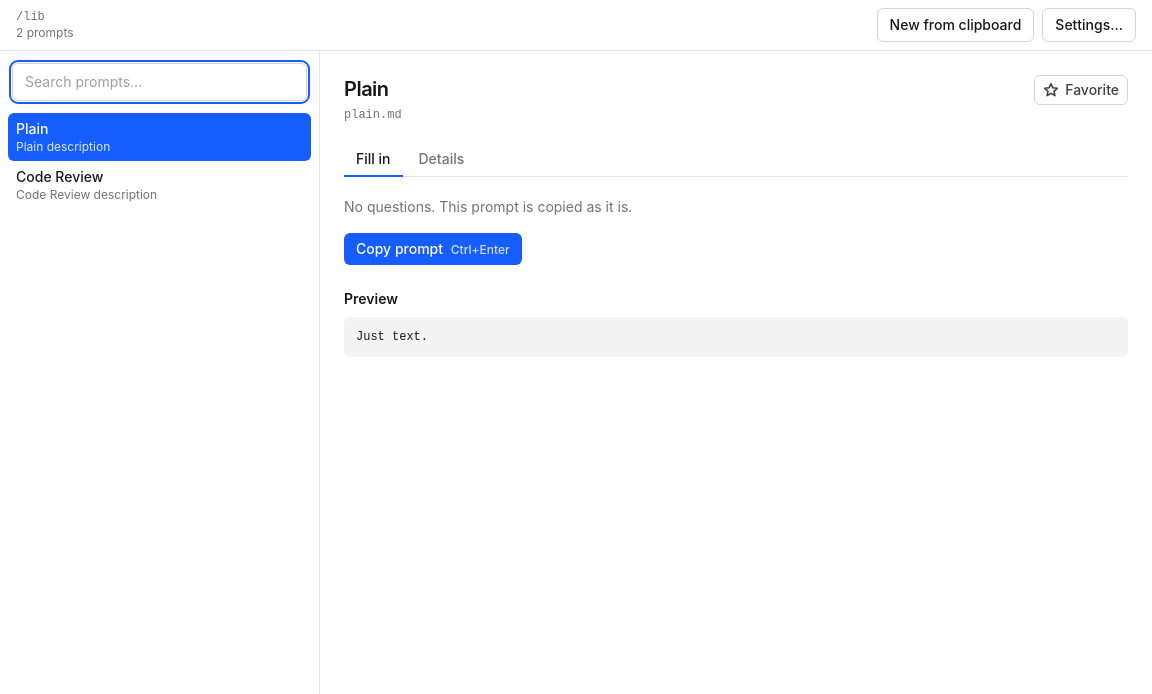
it: main window › searches, showing the matches, or that there are none
Expected: the heading "Plain" is shown, [344,75,389,103]
Type "code" into the dropdown labelled "Search prompts" at (160, 82), box [12,63,307,101]
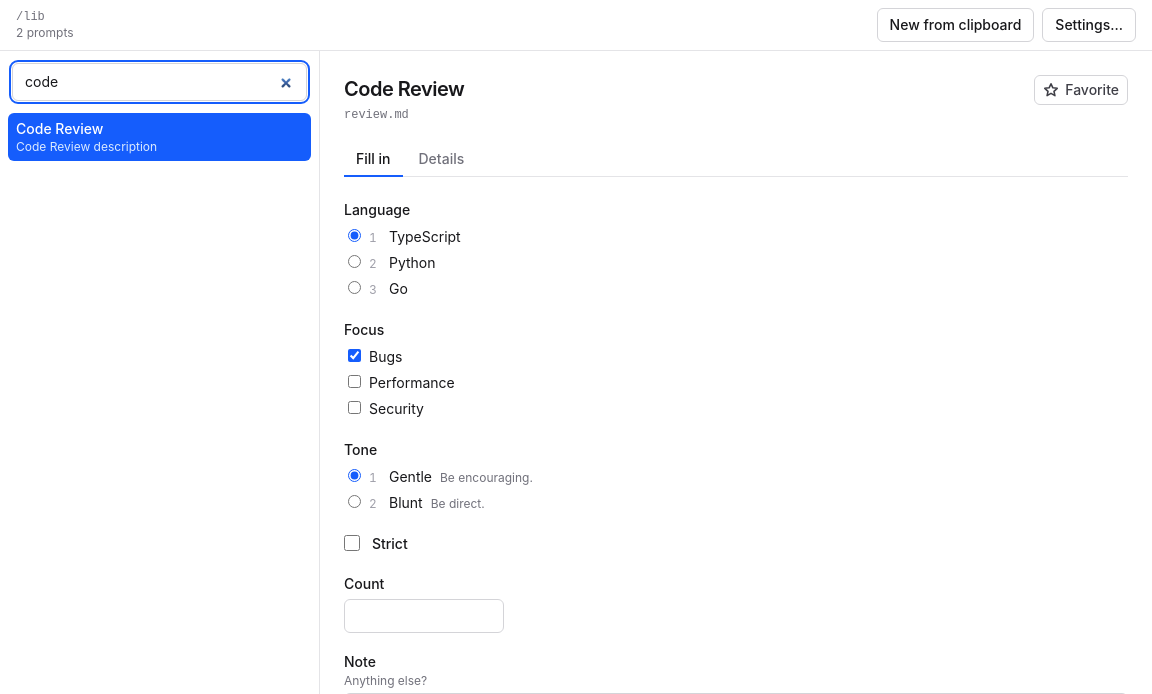
Now the heading "Code Review" is shown, box [344,75,464,103]
Now the number of options is 1, box [8,113,311,161]
Type "zz" into the dropdown named "Search prompts" at (160, 82), box [12,63,307,101]
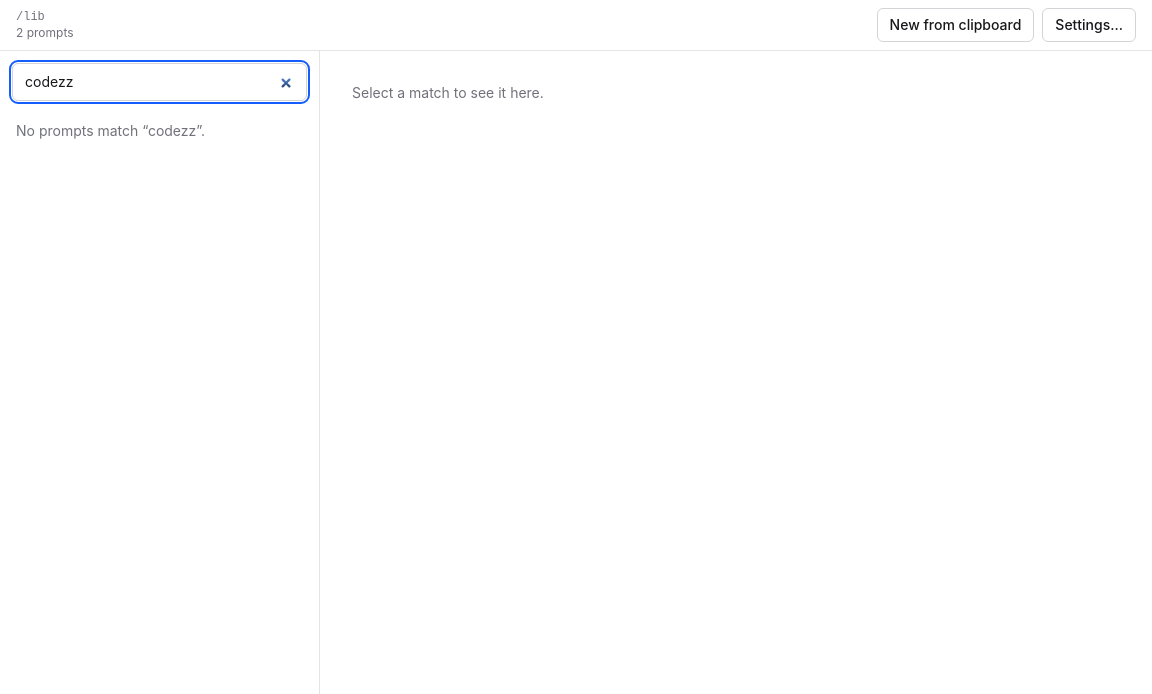
Now the text "No prompts match" is shown, box [16,122,148,139]
Now the text "Select a match to see it here." is shown, box [352,84,544,101]
Press Escape
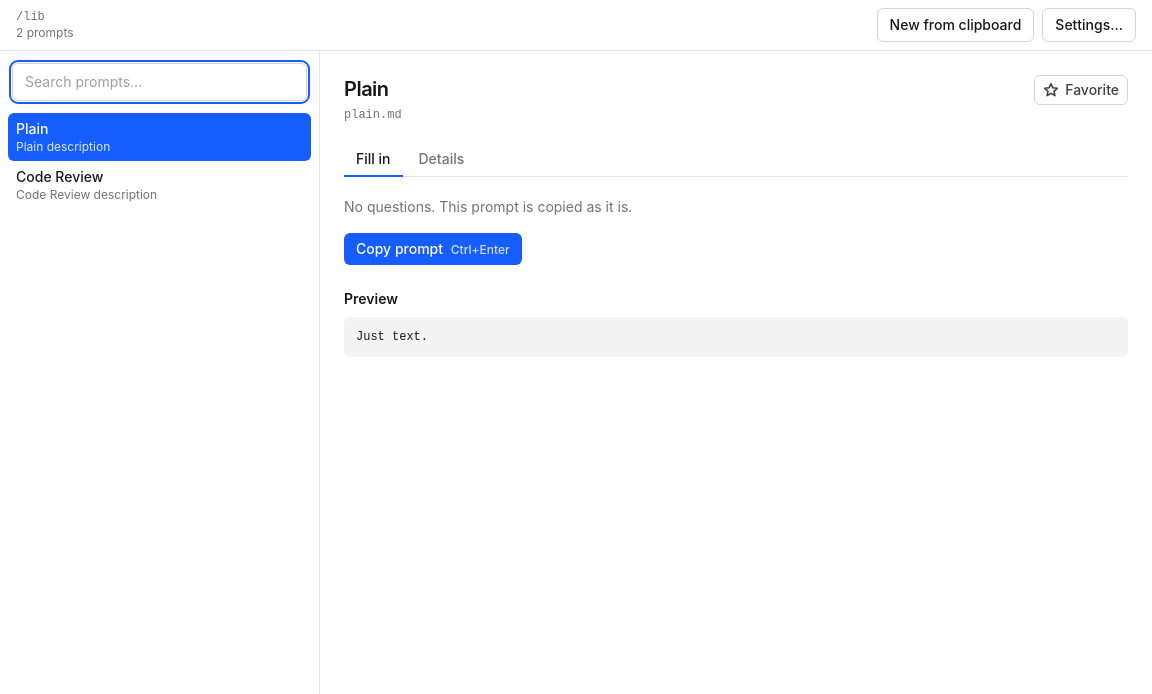
Now the heading "Plain" is shown, box [344,75,389,103]
